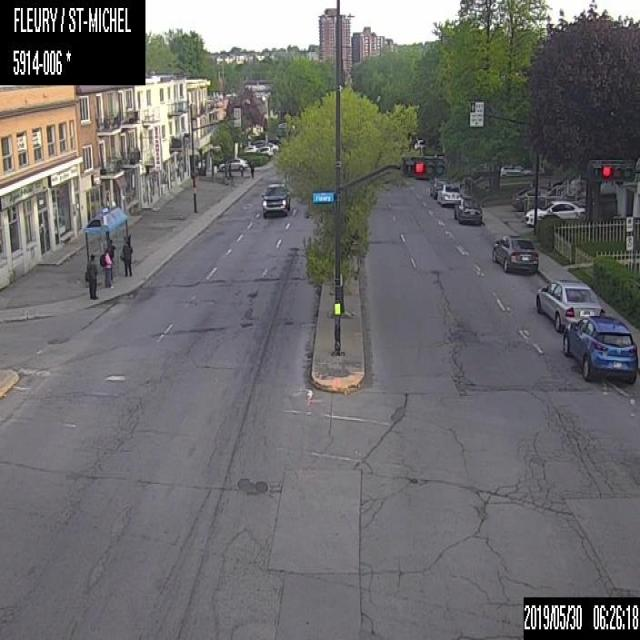pedestrian: (84, 249, 98, 300), (100, 246, 114, 292), (118, 234, 132, 278), (249, 161, 255, 179)
vehicle: (562, 316, 639, 387), (534, 277, 608, 332), (489, 233, 539, 275), (523, 196, 585, 227), (260, 181, 292, 216), (509, 184, 550, 210), (453, 194, 483, 225), (436, 182, 462, 208), (217, 154, 247, 170), (500, 163, 530, 176), (256, 146, 272, 156), (243, 142, 259, 152)
